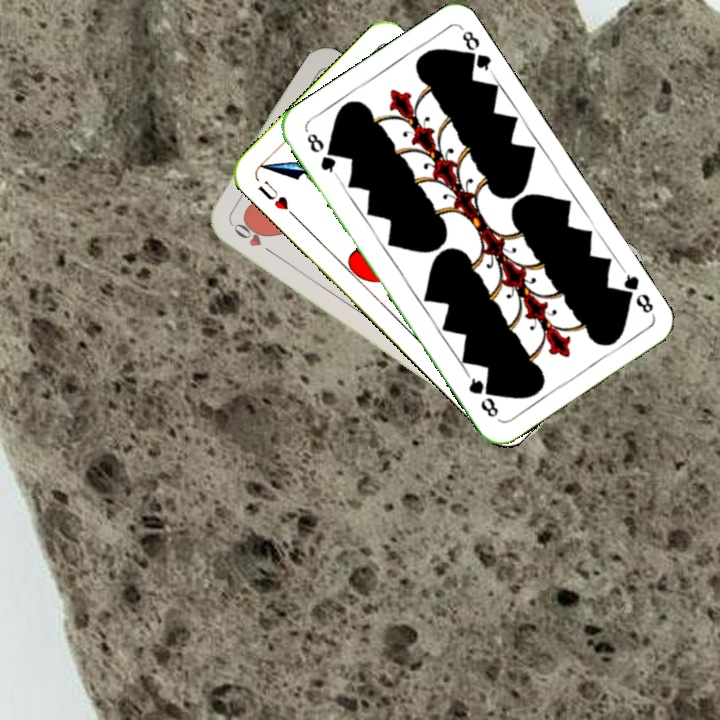G8: (615, 265, 657, 317), (302, 129, 341, 179)
HO: (226, 217, 277, 258)
HU: (253, 176, 299, 221)
